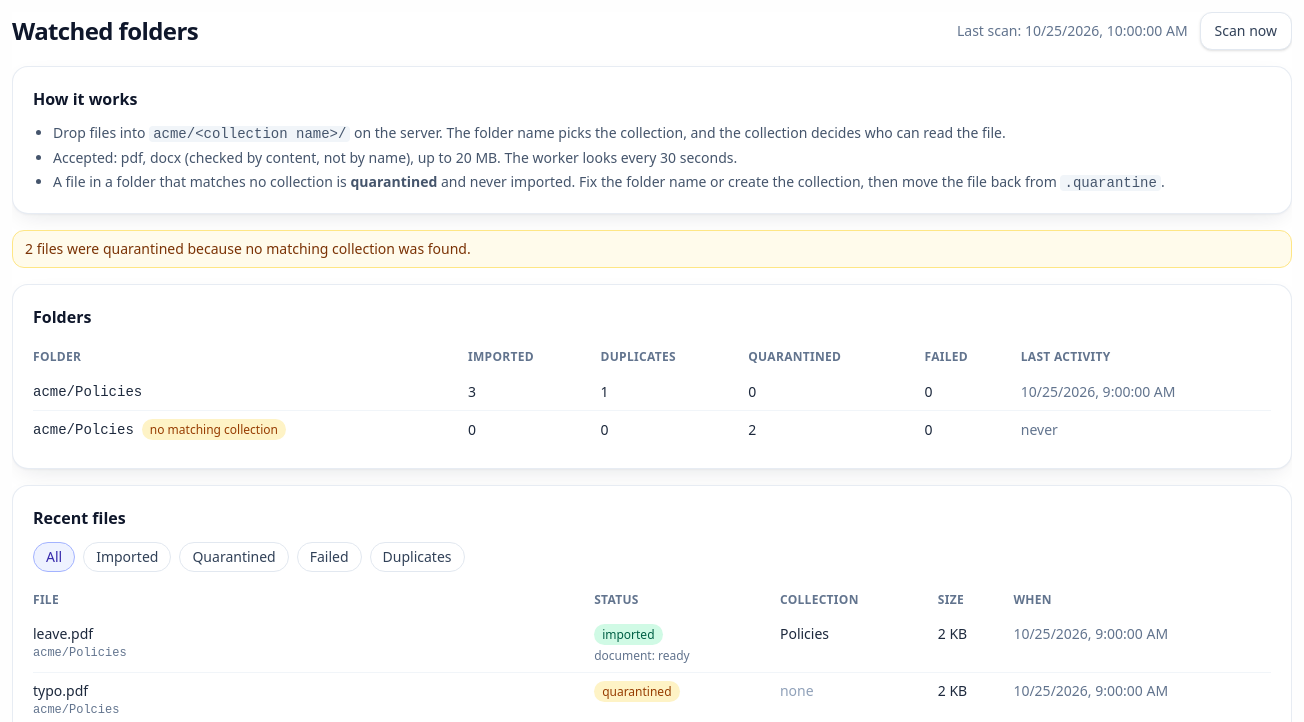
Scenario: InboxPage › filters by status
The image size is (1304, 722).
Expected: the text "typo.pdf" is shown, x1=33 y1=681 x2=88 y2=700
Click the button "Quarantined": (234,557) x1=179 y1=542 x2=289 y2=572
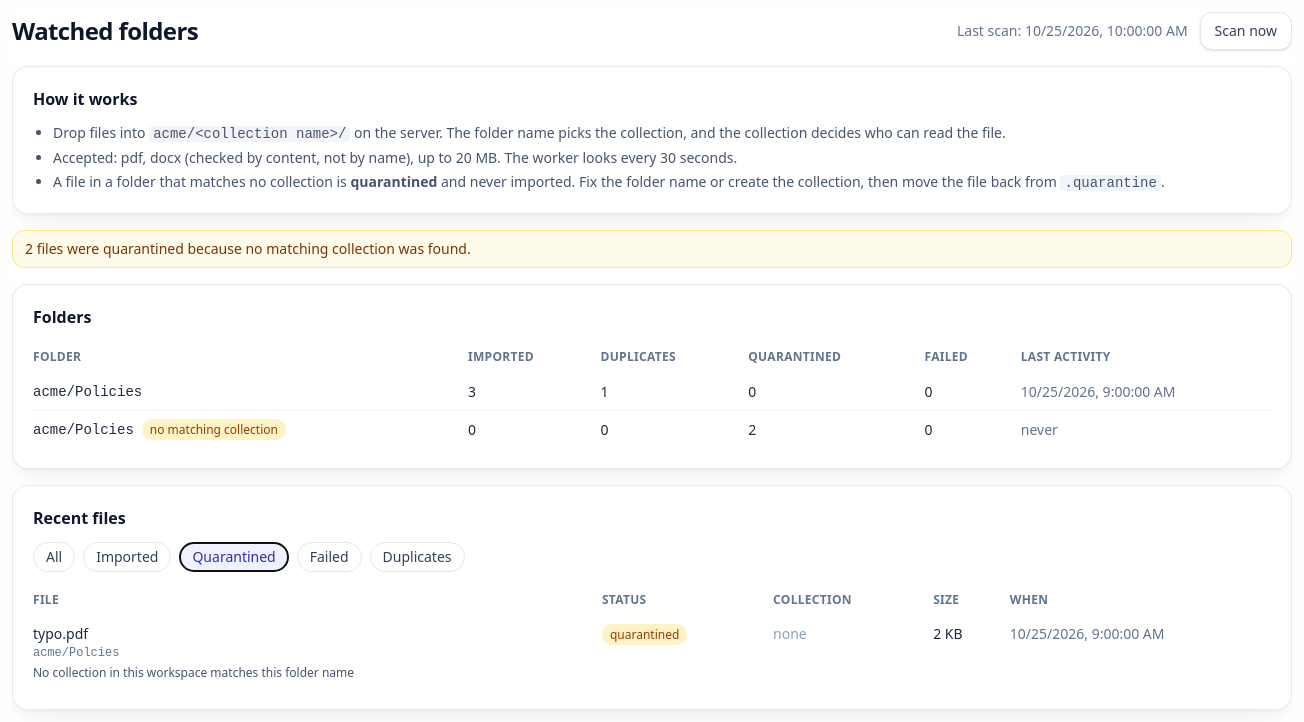
Expected: the text "typo.pdf" is shown, x1=33 y1=624 x2=88 y2=643
Expected: the text "leave.pdf" is gone
